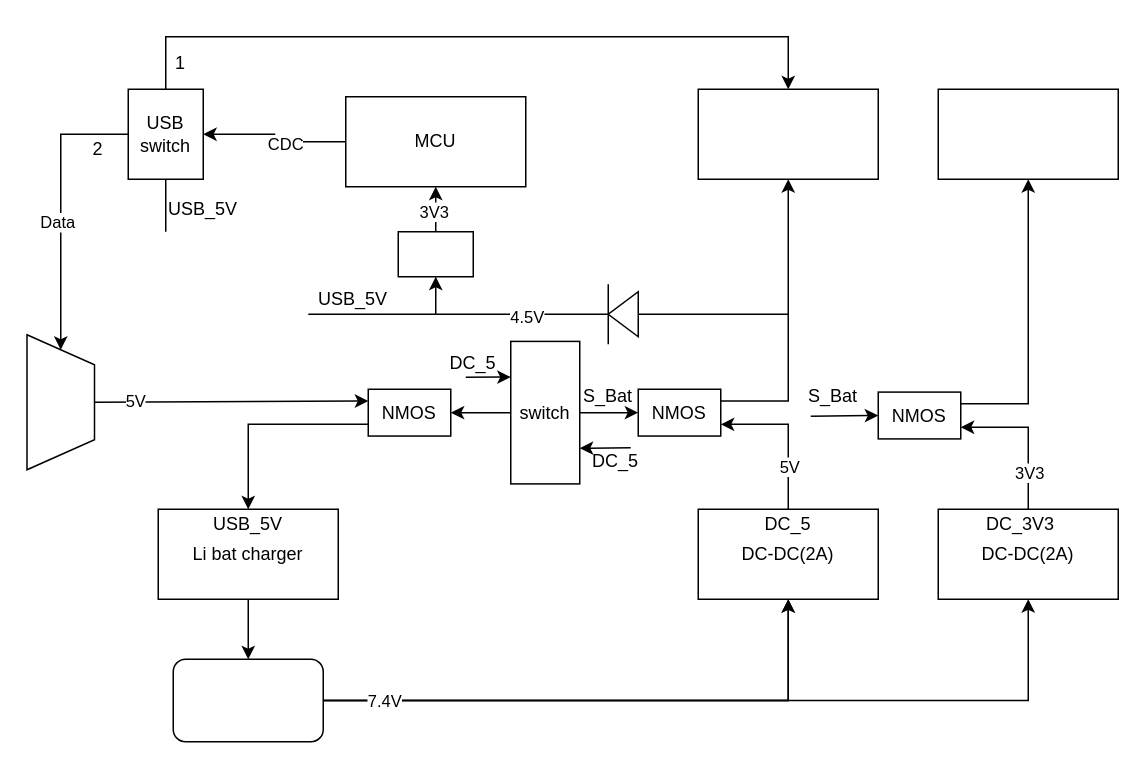
This 1145x768 diagram has some shape labels left out. The centre of each missing label's shape, as x and y in pixels:
LDO: pixel 435 253
Li bat 2S: pixel 247 700
raspberry CM4: pixel 787 133
USB: pixel 60 401
WIFI: pixel 1027 133
